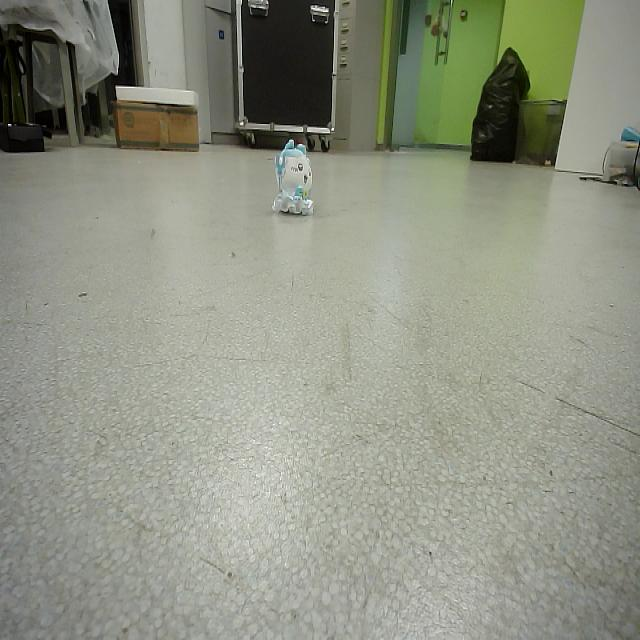xiaoba: (274, 136, 315, 222)
